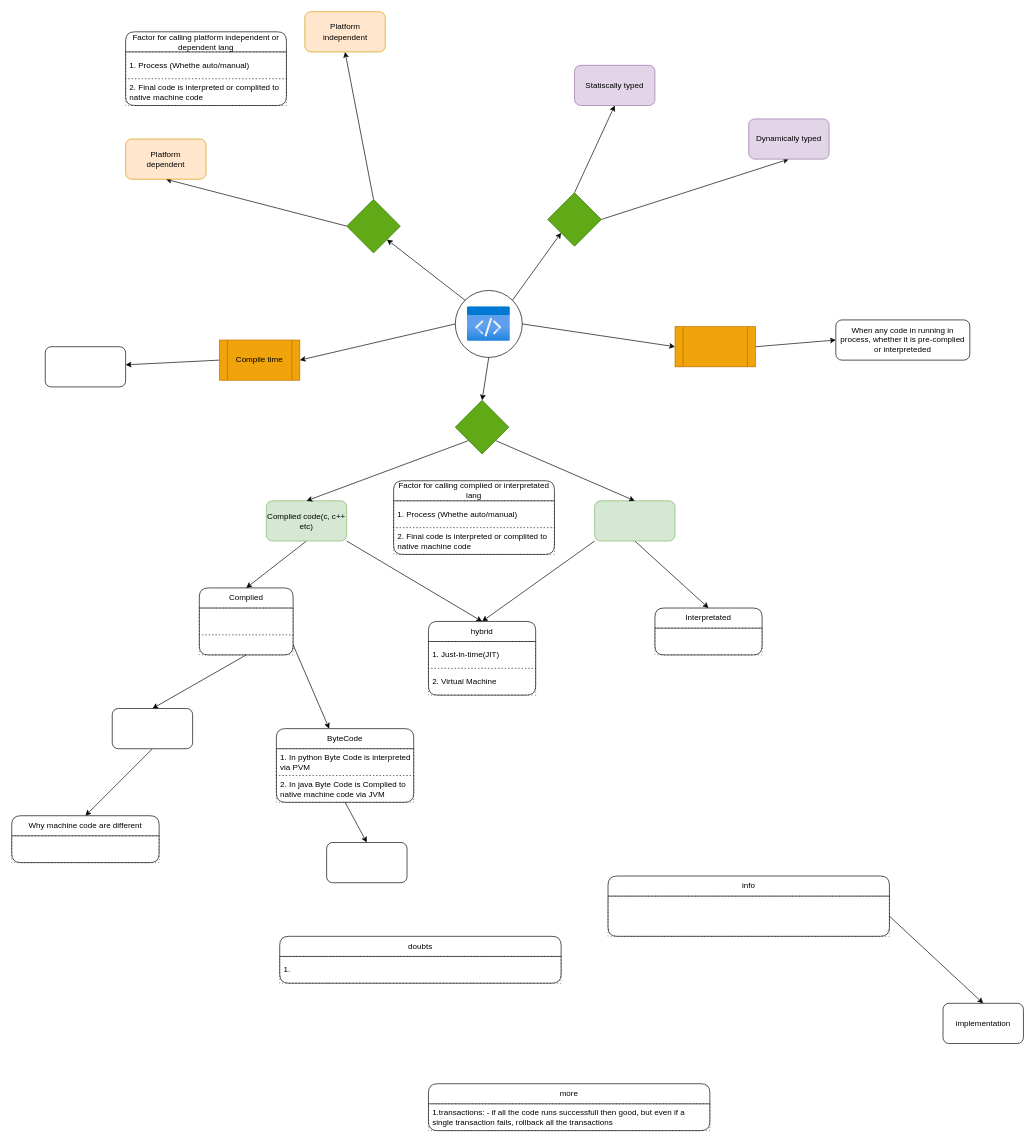
The diagram is 1035 pixels wide and 1142 high, and some of its shapes have lost their labels. The centre of each missing label's shape, as x and y in pixels:
"1. Complied to native machine code(AOT)" goes at (246,621).
"1. Due to different ISA" goes at (85,849).
"1. These are pre-complied code machine code" goes at (708,641).
"2. Complied to bytecode" goes at (246,644).
"Byte code indepence depends on VM" goes at (366,862).
"Compilation: Implicit vs. Explicit" goes at (748,915).
"Compile to binary????" goes at (152,728).
"execution basis" goes at (482,427).
"Interpretated code(node.js, python etc)" goes at (634,520).
"platform basis" goes at (373,226).
"Runtime time" goes at (714,346).
"typing basis" goes at (574,219).
"When the code is complied" goes at (85,366).
